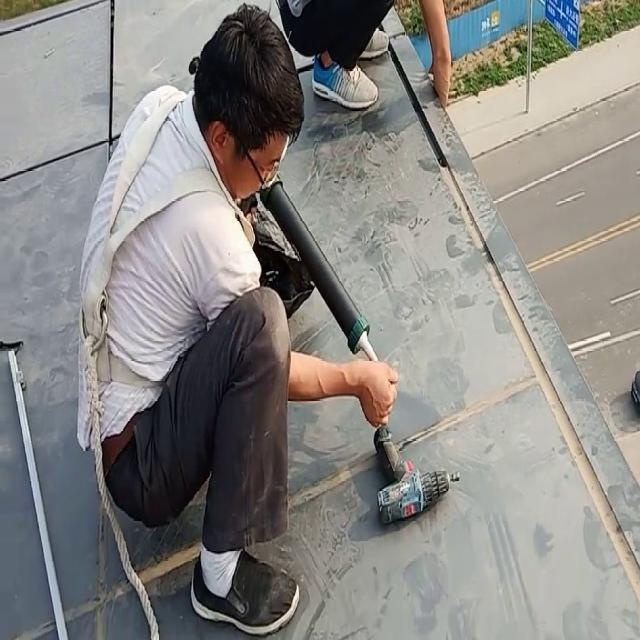Arnes_seguridad: (72, 82, 231, 401)
